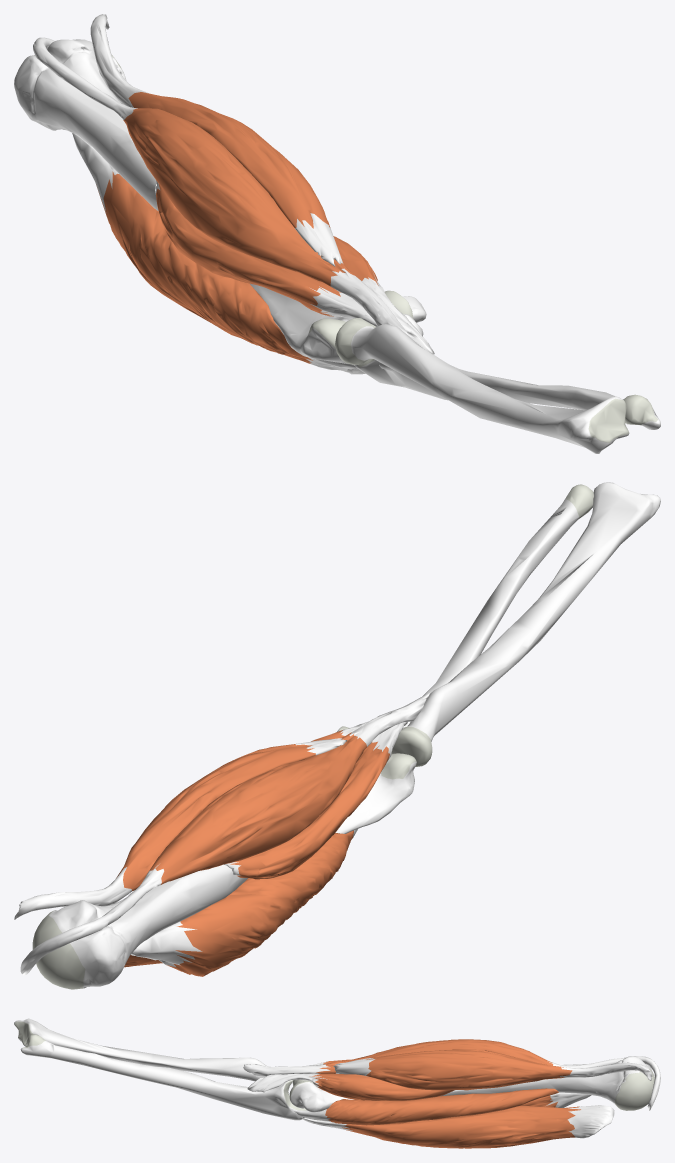
Rendered from arm_full.glb.
The picture shows the model from 3 angles, top to bottom: view 1: azimuth 30°, elevation 25°; view 2: azimuth 150°, elevation 25°; view 3: azimuth 270°, elevation 25°; orthographic projection. The views are drawn at different scales.
Visible parts, largest first — view 1: Long head of biceps brachii, Humerus, Lateral head of triceps brachii, Radius, Short head of biceps brachii, Brachialis muscle, Ulna; view 2: Long head of biceps brachii, Humerus, Radius, Lateral head of triceps brachii, Short head of biceps brachii, Brachialis muscle, Ulna; view 3: Long head of triceps brachii, Short head of biceps brachii, Ulna, Medial head of triceps brachii, Humerus, Radius, Long head of biceps brachii, Brachialis muscle, Lateral head of triceps brachii.
Part boxes in pixels (x1,y1,x2,y2): Long head of biceps brachii: (33, 37, 409, 336); Humerus: (14, 39, 426, 363); Lateral head of triceps brachii: (72, 133, 360, 370); Radius: (335, 318, 629, 453); Short head of biceps brachii: (90, 14, 343, 266); Brachialis muscle: (155, 180, 434, 354); Ulna: (354, 314, 660, 429); Long head of biceps brachii: (20, 692, 431, 975); Humerus: (32, 726, 416, 989); Radius: (391, 482, 660, 766); Lateral head of triceps brachii: (131, 829, 357, 976); Short head of biceps brachii: (14, 738, 347, 919); Brachialis muscle: (224, 721, 407, 879); Ulna: (403, 484, 593, 728); Long head of triceps brachii: (301, 1105, 614, 1148); Short head of biceps brachii: (333, 1049, 652, 1090); Ulna: (20, 1034, 306, 1120); Medial head of triceps brachii: (293, 1088, 558, 1125); Humerus: (289, 1056, 654, 1112); Radius: (14, 1018, 270, 1081); Long head of biceps brachii: (243, 1039, 660, 1110); Brachialis muscle: (247, 1059, 454, 1100); Lateral head of triceps brachii: (520, 1092, 591, 1107).
Size of the model in its own units: 1.04 by 1.42 by 7.15.
